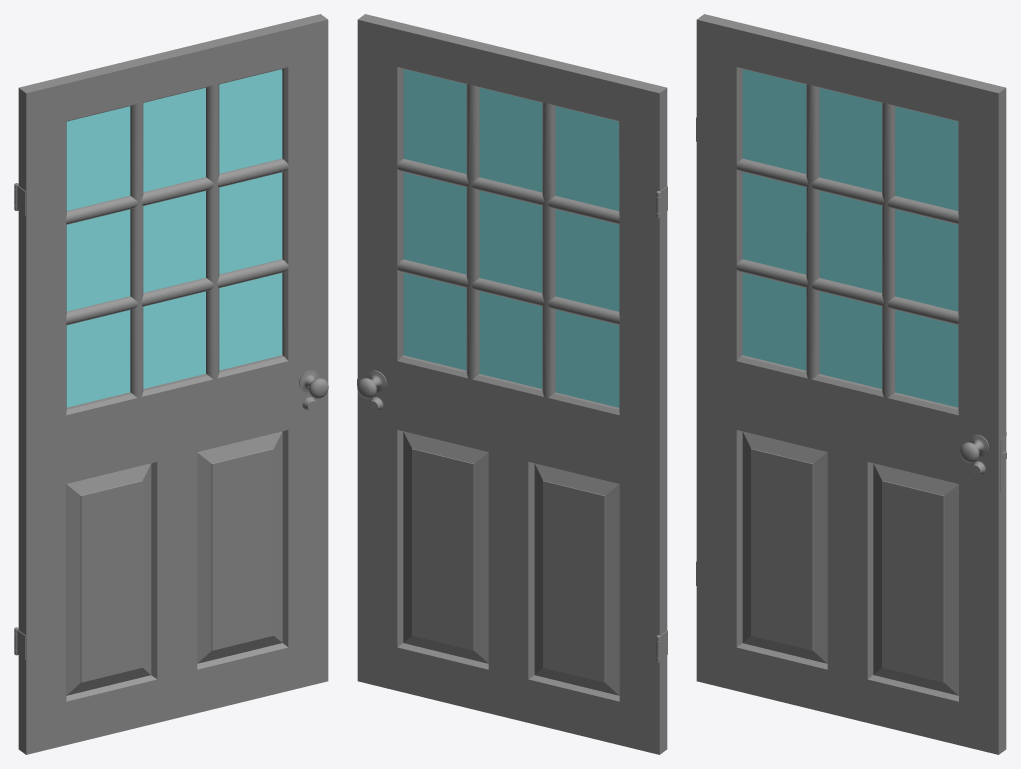
Rendered from Door_mesh_C_R.FBX.
The picture shows the model from 3 angles, left to right: view 1: azimuth 30°, elevation 25°; view 2: azimuth 150°, elevation 25°; view 3: azimuth 330°, elevation 25°; orthographic projection.
Visible parts, largest first — view 1: Door_mesh_C_R, Windowglass_A; view 2: Door_mesh_C_R, Windowglass_A; view 3: Door_mesh_C_R, Windowglass_A.
Part boxes in pixels (x1,y1,x2,y2): Door_mesh_C_R: (14, 14, 328, 754); Windowglass_A: (66, 69, 282, 407); Door_mesh_C_R: (357, 14, 667, 754); Windowglass_A: (403, 69, 619, 407); Door_mesh_C_R: (696, 14, 1006, 754); Windowglass_A: (742, 69, 958, 407).
Size of the model in its own units: 105 by 216 by 19.99.
